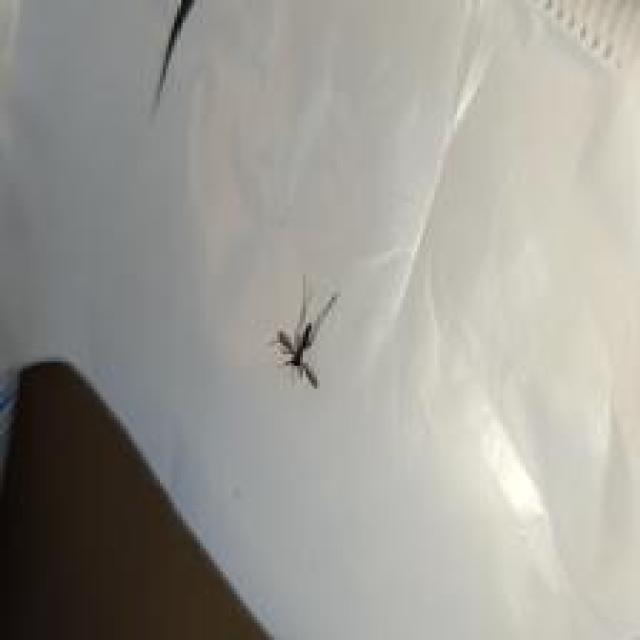Aedes albopictus: (269, 273, 340, 390)
